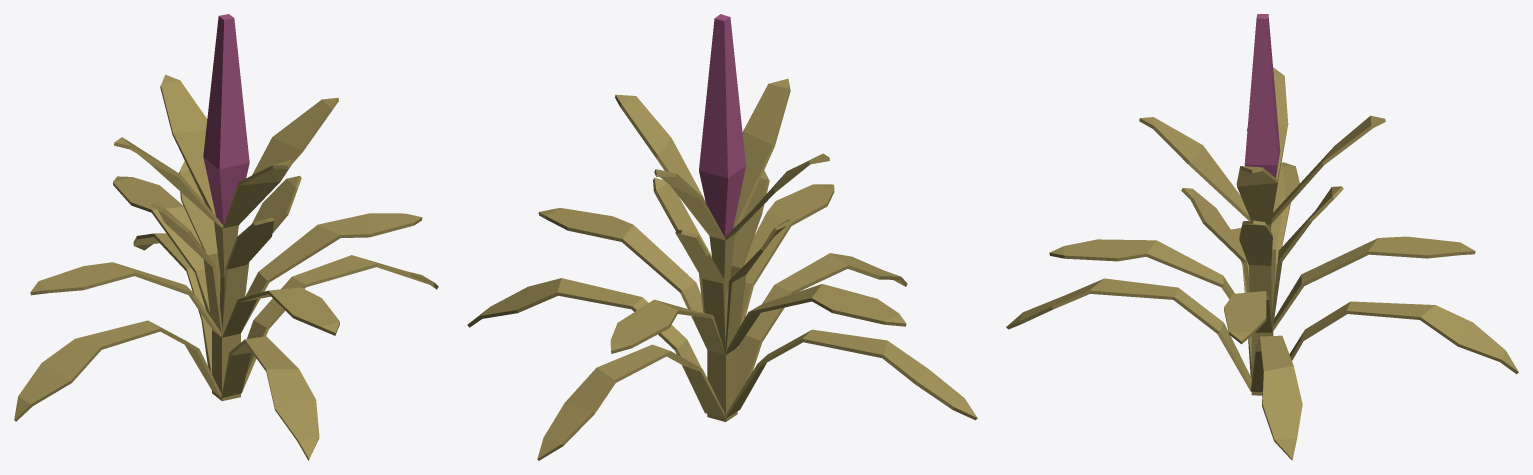
Rendered from Plant_5.glb.
3 views of the same model, side by side, from view 1: azimuth 30°, elevation 25°; view 2: azimuth 150°, elevation 25°; view 3: azimuth 270°, elevation 25° (orthographic). The views are drawn at different scales.
Parts seen in each view (by area): view 1: Yellow, Pink; view 2: Yellow, Pink; view 3: Yellow, Pink.
Boxes of the visible parts, box(x1,y1,x2,y2) form: Yellow: box(14, 74, 438, 460); Pink: box(203, 14, 249, 225); Yellow: box(467, 78, 977, 460); Pink: box(699, 14, 745, 236); Yellow: box(1006, 67, 1518, 460); Pink: box(1244, 14, 1280, 177).
Bounding box in the file's own units: 1.74 × 1.39 × 1.72.
